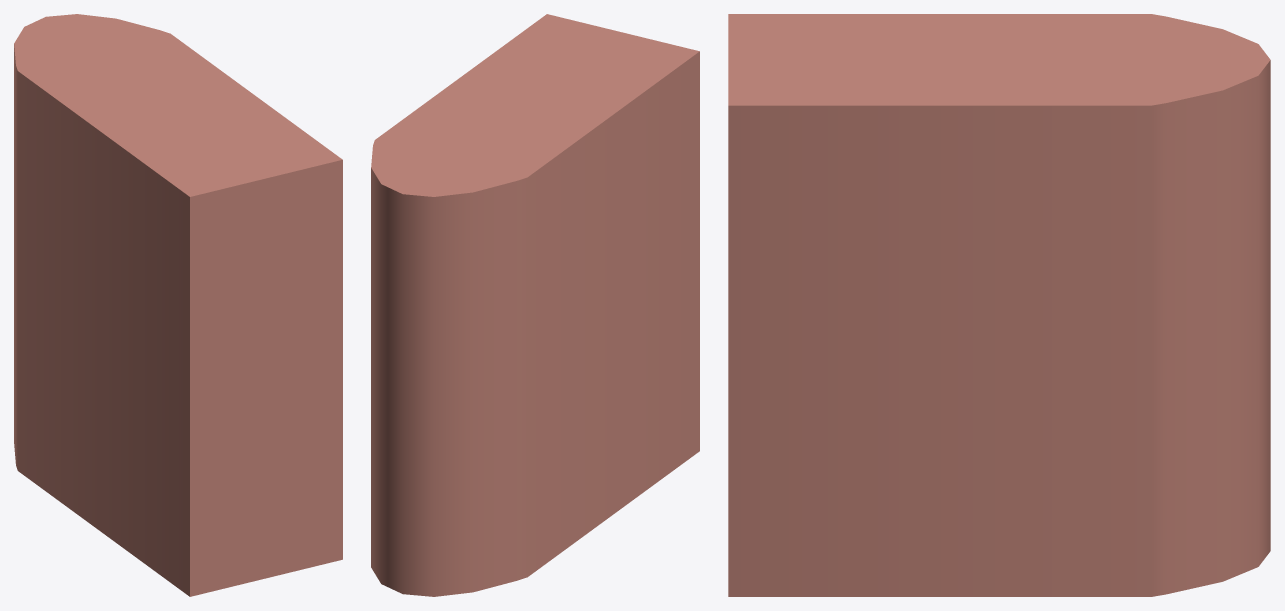
File: BasicSupport05.fbx
3 renders of one model, left to right at view 1: azimuth 30°, elevation 25°; view 2: azimuth 150°, elevation 25°; view 3: azimuth 270°, elevation 25°, orthographic. The views are drawn at different scales.
Parts seen in each view (by area): view 1: BasicSupport05.002; view 2: BasicSupport05.002; view 3: BasicSupport05.002.
Boxes of the visible parts, box(x1,y1,x2,y2) form: BasicSupport05.002: box(14, 14, 342, 596); BasicSupport05.002: box(371, 14, 699, 596); BasicSupport05.002: box(728, 14, 1270, 596).
Bounding box in the file's own units: 200 × 500 × 500.
